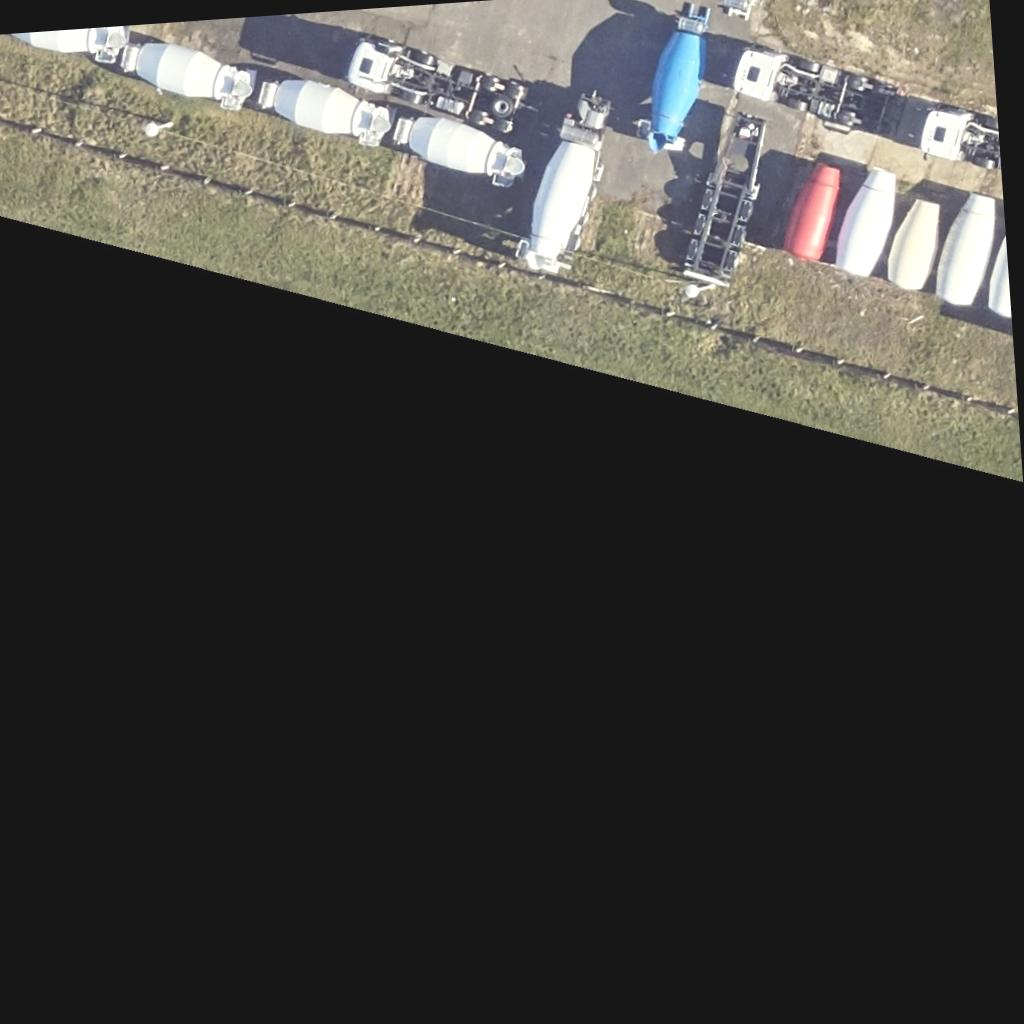betoniarka: (505, 89, 621, 276), (637, 1, 718, 153), (778, 162, 844, 260)
